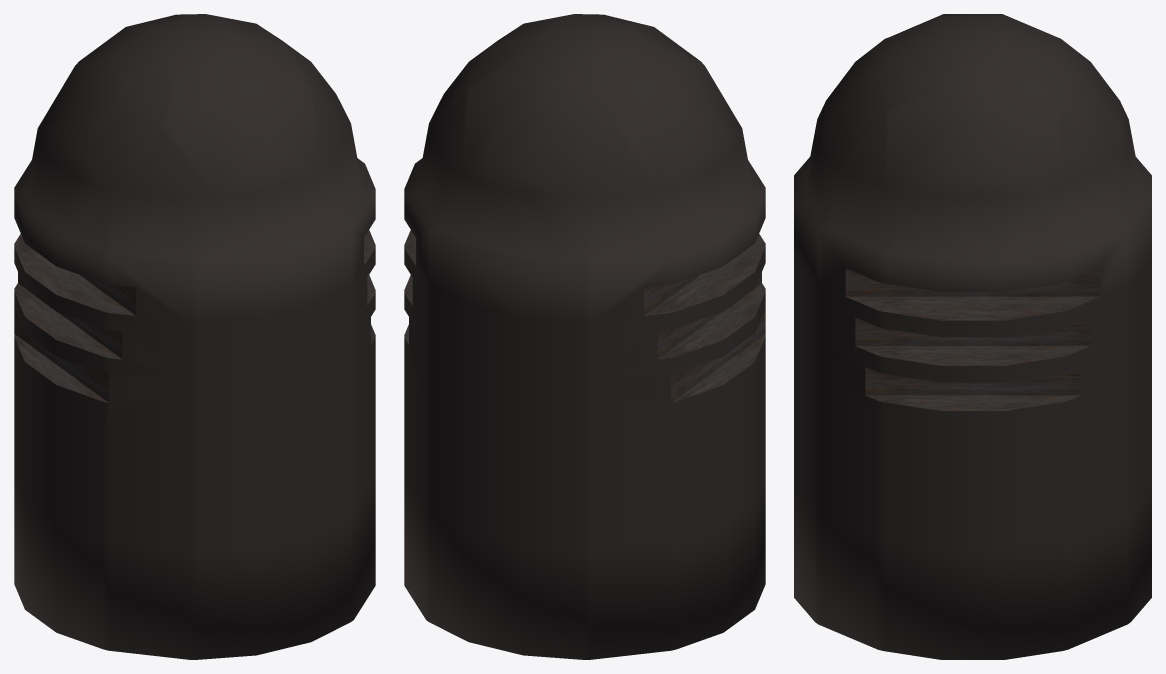
File: bomb.glb
3 renders of one model, left to right at view 1: azimuth 30°, elevation 25°; view 2: azimuth 150°, elevation 25°; view 3: azimuth 270°, elevation 25°, orthographic.
Parts seen in each view (by area): view 1: Mball.001; view 2: Mball.001; view 3: Mball.001.
Boxes of the visible parts, x1,y1,x2,y2 form: Mball.001: [14, 14, 375, 659]; Mball.001: [404, 14, 765, 659]; Mball.001: [794, 14, 1151, 659].
Size of the model in its own units: 2.27 by 3.88 by 2.27.
2 materials, 2 textured.
